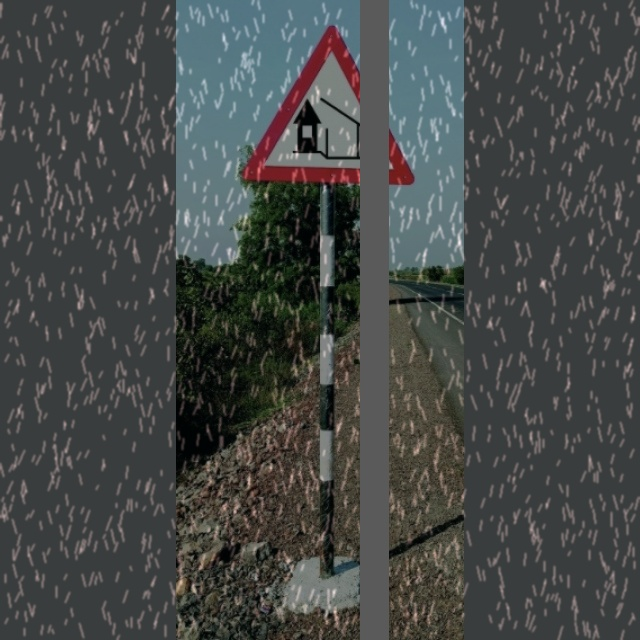Barrier_Ahead: (247, 29, 413, 182)
